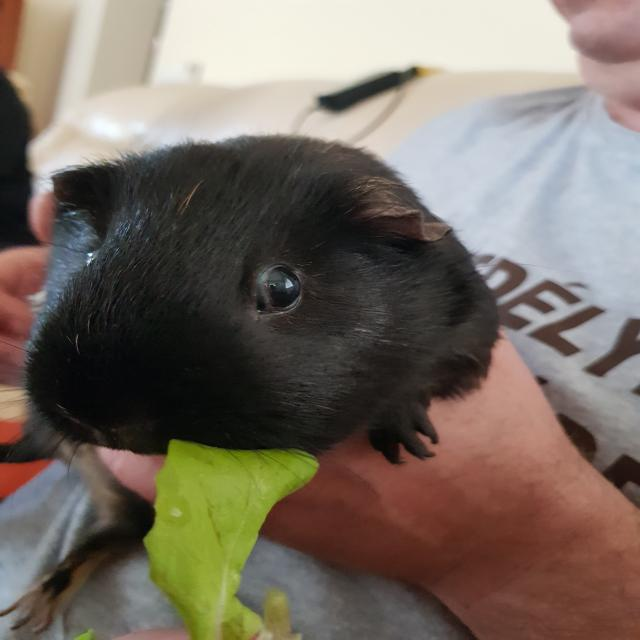guinea pig: (17, 132, 504, 468)
